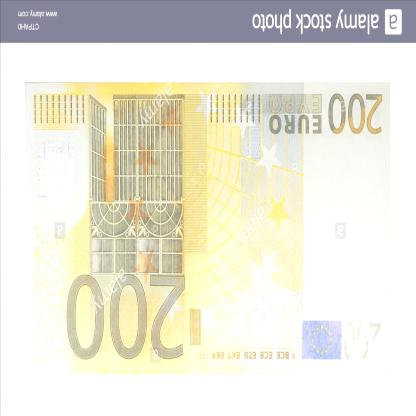euro_banknote: (29, 83, 392, 374)
